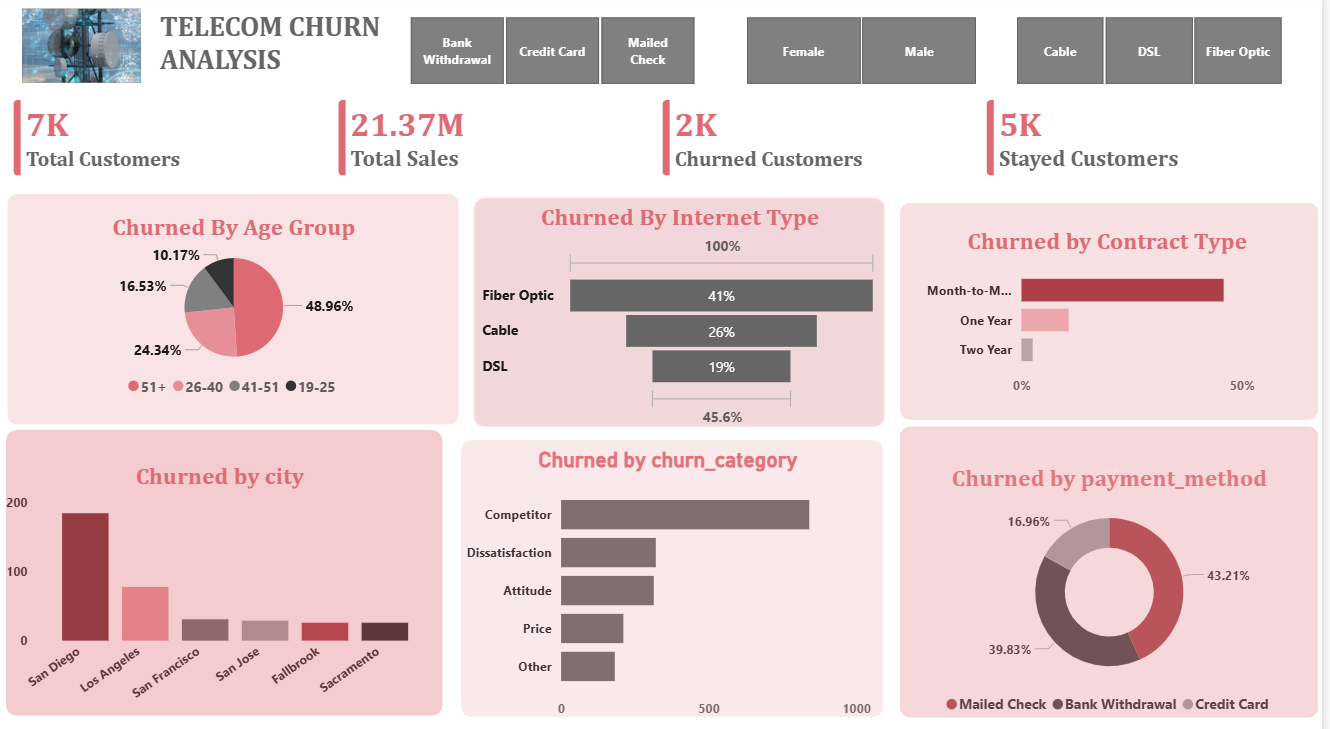

The dashboard page shown, as its layout file describes it:
{"tool":"powerbi","page":{"name":"Page 1","canvas":[1280,720],"ordinal":0},"visuals":[{"type":"cardVisual","fields":{"Data":["Telecom_raw_data.Total_customers","Telecom_raw_data.Total_sales","Telecom_raw_data.Churned_customers","Telecom_raw_data.Stayed_customers"]},"box":[0,84.3,1280,107.1],"z":0},{"type":"shape","box":[11.2,191.2,435.7,222.9],"z":0,"group":"g1"},{"type":"shape","box":[457.1,191.4,404.3,228.9],"z":0,"group":"g2"},{"type":"textbox","box":[153.2,9.7,243.7,74.8],"z":1000},{"type":"actionButton","box":[25.7,12.9,114.3,71.4],"z":2000},{"type":"funnel","title":"Churned By Internet Type","fields":{"Category":["Telecom_raw_data.internet_type"],"Y":["Telecom_raw_data.churn_rate"]},"box":[463.7,199.5,391.9,221.9],"z":2000,"group":"g2"},{"type":"donutChart","title":"Churned by payment_method","fields":{"Category":["Telecom_raw_data.payment_method"],"Y":["Telecom_raw_data.churn_rate"]},"box":[882.3,451.6,385.6,251.1],"z":2000,"group":"g4"},{"type":"group","id":"g1","title":"Group 1","box":[11.2,191.2,436.2,223.8],"z":3000},{"type":"pieChart","title":"Churned By Age Group","fields":{"Category":["Telecom_raw_data.age_group"],"Y":["Telecom_raw_data.Churned_customers"]},"box":[38.7,208.8,382.2,186.5],"z":3000,"group":"g1"},{"type":"clusteredBarChart","title":"Churned by Contract Type","fields":{"Y":["Telecom_raw_data.churn_rate"],"Category":["Telecom_raw_data.contract"]},"box":[882.9,223.2,381.4,172.2],"z":3000,"group":"g5"},{"type":"group","id":"g2","title":"Group 6","box":[457.1,191.4,404.3,230],"z":4000},{"type":"shape","box":[872.9,200,404.3,210],"z":5000,"group":"g5"},{"type":"group","id":"g3","title":"Group 2","box":[5,420,426.2,275],"z":5000},{"type":"barChart","title":"Churned by churn_category","fields":{"Category":["Telecom_raw_data.churn_category"],"Y":["Telecom_raw_data.Churned_customers"]},"box":[447.4,437.7,401.9,270.3],"z":5000,"group":"g6"},{"type":"shape","box":[872.9,415.7,404.3,281.4],"z":5500,"group":"g4"},{"type":"group","id":"g4","title":"Group 4","box":[872.9,415.7,404.3,287],"z":6000},{"type":"group","id":"g5","title":"Group 5","box":[872.9,200,404.3,210],"z":7000},{"type":"lineStackedColumnComboChart","title":"Churned by city","fields":{"Category":["Telecom_raw_data.city"],"Y":["Telecom_raw_data.Churned_customers"]},"box":[5,450.3,422.6,245.3],"z":7000,"group":"g3"},{"type":"slicer","fields":{"Values":["Telecom_raw_data.gender"]},"box":[698.6,14.3,271.4,78.6],"z":8000},{"type":"shape","box":[448.7,430,407.5,267.5],"z":8500,"group":"g6"},{"type":"slicer","fields":{"Values":["Telecom_raw_data.internet_type"]},"box":[958.6,14.3,305.7,78.6],"z":9000},{"type":"slicer","fields":{"Values":["Telecom_raw_data.payment_method"]},"box":[374.3,14.3,324.3,78.6],"z":10000},{"type":"group","id":"g6","title":"Group 3","box":[447.4,430,408.8,278.1],"z":11000},{"type":"shape","box":[9.8,420,421.4,275.7],"z":12500,"group":"g3"}]}

Visuals, with their boxes in screenshot pixels (x1, y1, x2, y2), scaled from the page's 1280x720 canvas onto the 1330x729 screenshot:
cardVisual - Telecom_raw_data.Total_customers x Telecom_raw_data.Total_sales: (0, 85, 1329, 194)
shape: (12, 194, 464, 419)
shape: (475, 194, 895, 426)
textbox: (159, 10, 412, 86)
actionButton: (27, 13, 145, 85)
"Churned By Internet Type" funnel: (482, 202, 889, 427)
"Churned by payment_method" donutChart: (917, 457, 1317, 711)
"Group 1" group: (12, 194, 465, 420)
"Churned By Age Group" pieChart: (40, 211, 437, 400)
"Churned by Contract Type" clusteredBarChart: (917, 226, 1314, 400)
"Group 6" group: (475, 194, 895, 427)
shape: (907, 202, 1327, 415)
"Group 2" group: (5, 425, 448, 704)
"Churned by churn_category" barChart: (465, 443, 882, 717)
shape: (907, 421, 1327, 706)
"Group 4" group: (907, 421, 1327, 711)
"Group 5" group: (907, 202, 1327, 415)
"Churned by city" lineStackedColumnComboChart: (5, 456, 444, 704)
slicer - Telecom_raw_data.gender: (726, 14, 1008, 94)
shape: (466, 435, 890, 706)
slicer - Telecom_raw_data.internet_type: (996, 14, 1314, 94)
slicer - Telecom_raw_data.payment_method: (389, 14, 726, 94)
"Group 3" group: (465, 435, 890, 717)
shape: (10, 425, 448, 704)
